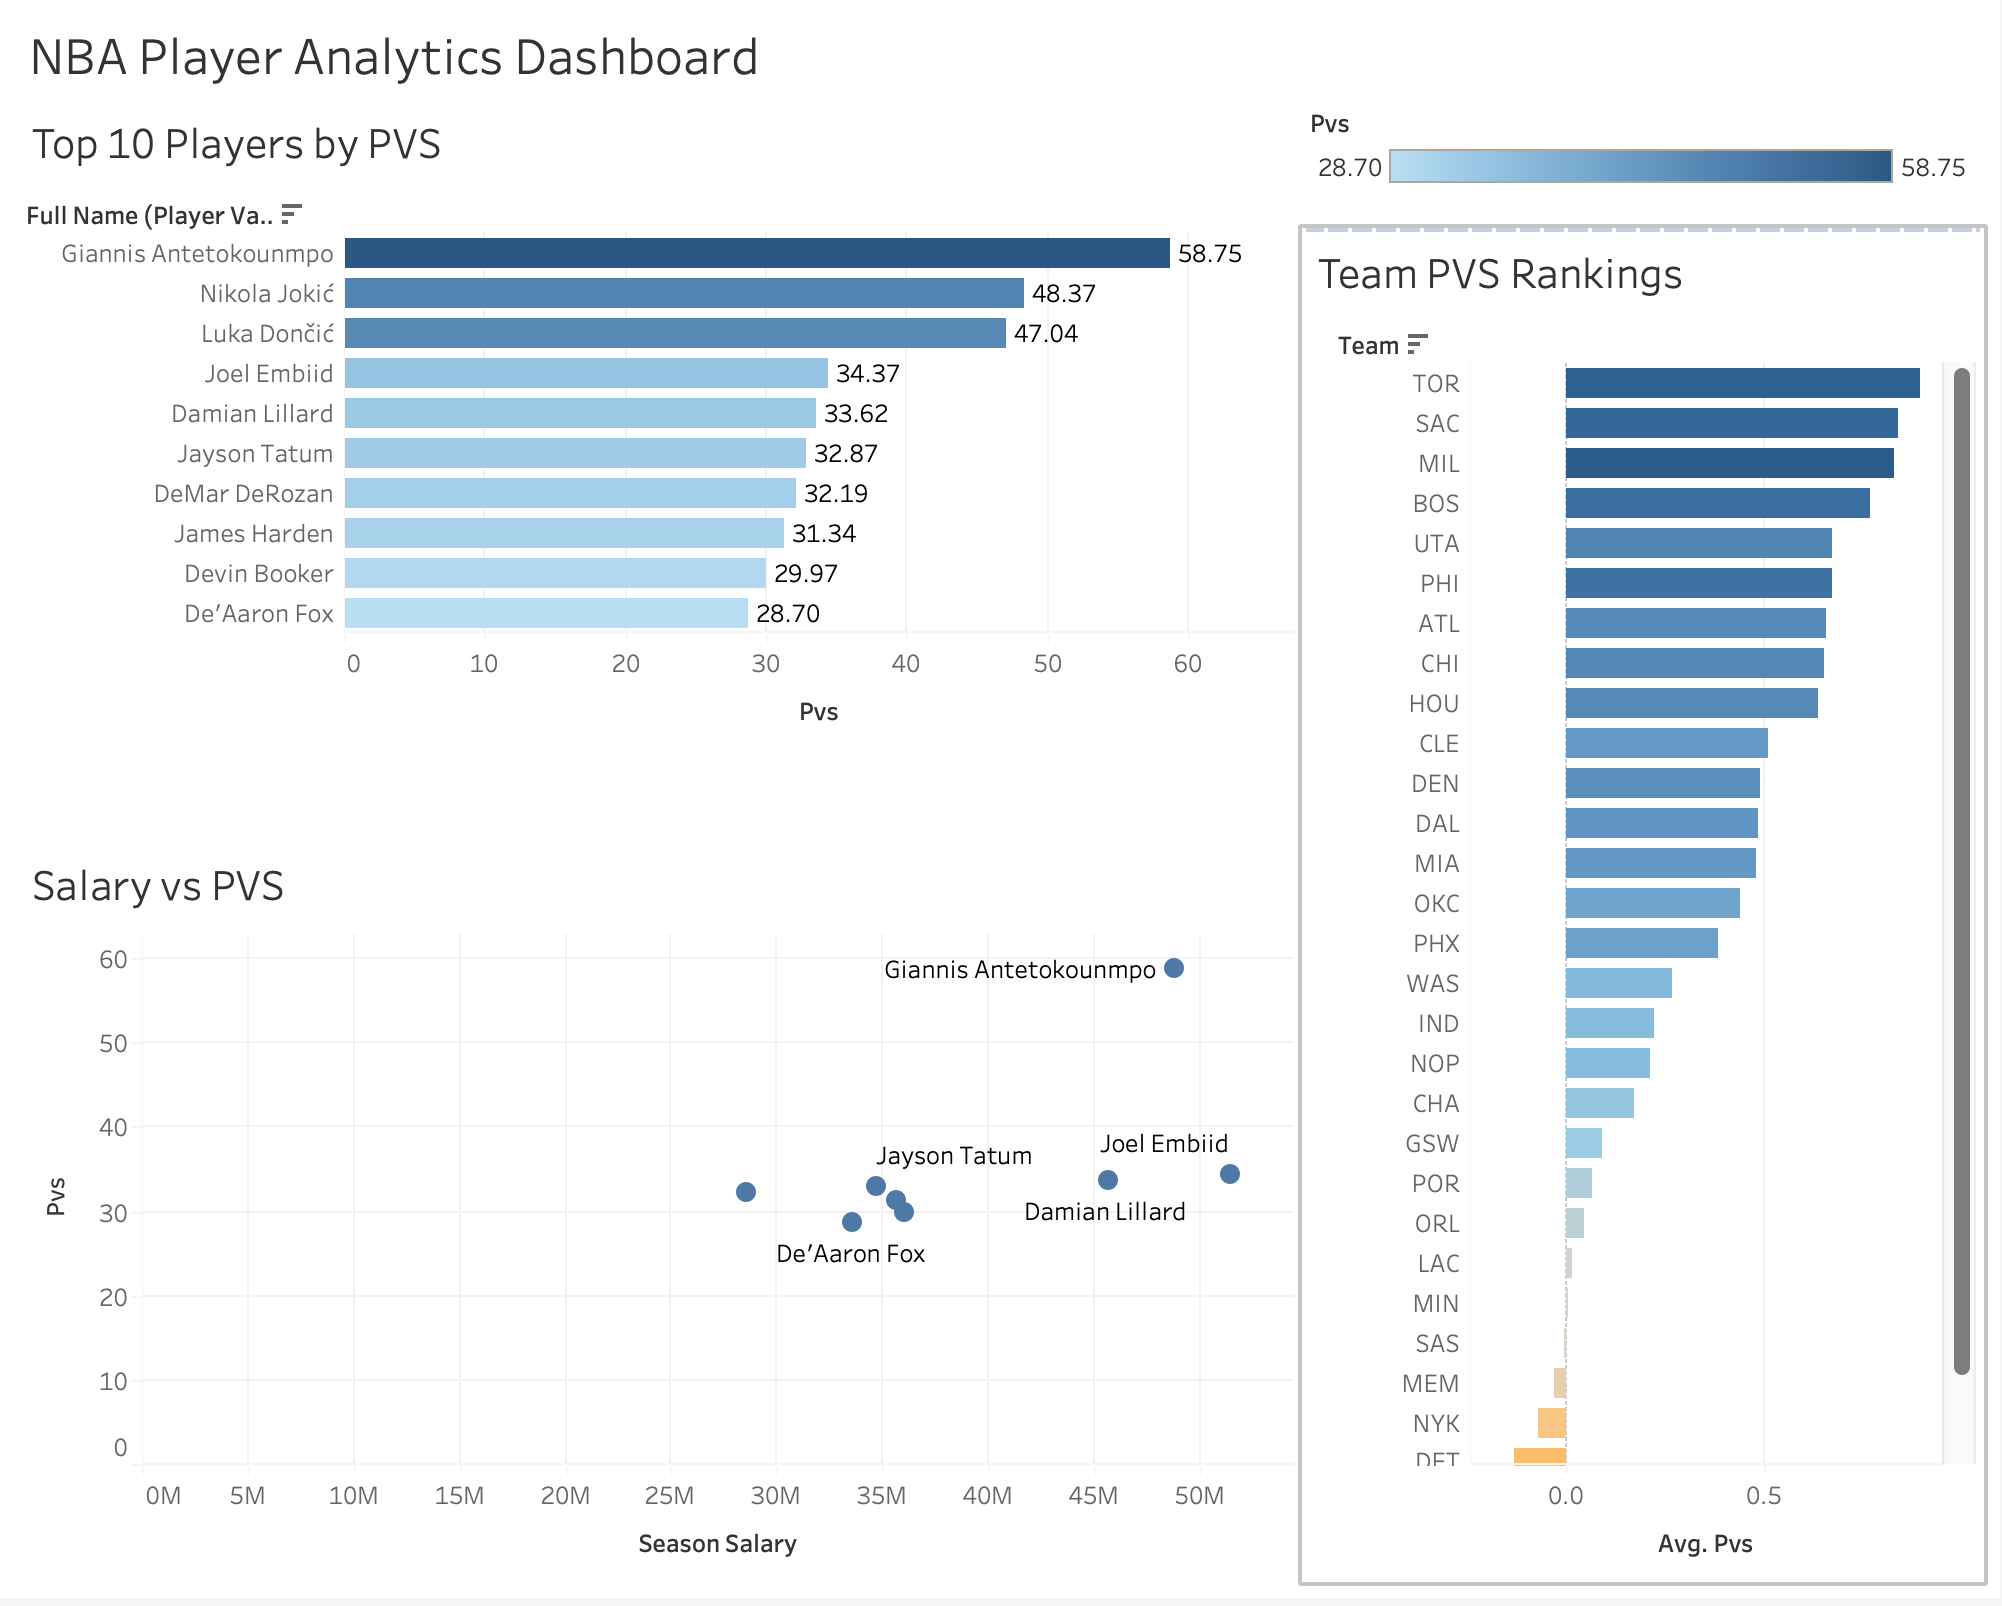

The dashboard page shown, as its layout file describes it:
{"tool":"tableau","page":{"name":"NBA Player Analytics Dashboard","canvas":[1000,800],"ordinal":0},"visuals":[{"type":"title","box":[8,8,984,42]},{"type":"worksheet","title":"Top 10 Players by PVS","mark":"Automatic","rows":["full_name (player_value_scores)"],"cols":["pvs"],"box":[8,50,643,371]},{"type":"legend","title":"Top 10 Players by PVS","param":"[federated.0w3f89i0tm5e241c2es9r13pvzul].[sum:pvs:qk]","box":[651,50,341,65]},{"type":"worksheet","title":"Team PVS Rankings","mark":"Automatic","rows":["team"],"cols":["pvs"],"box":[651,115,341,677]},{"type":"worksheet","title":"Salary vs PVS","mark":"Circle","rows":["pvs"],"cols":["season_salary"],"box":[8,421,643,371]}]}

Visuals, with their boxes in screenshot pixels (x1, y1, x2, y2), scaled from the page's 1000x800 canvas onto the 2002x1606 screenshot:
title: bbox(16, 16, 1986, 100)
"Top 10 Players by PVS" worksheet: bbox(16, 100, 1303, 845)
"Top 10 Players by PVS" legend: bbox(1303, 100, 1986, 231)
"Team PVS Rankings" worksheet: bbox(1303, 231, 1986, 1590)
"Salary vs PVS" worksheet (Circle marks): bbox(16, 845, 1303, 1590)
